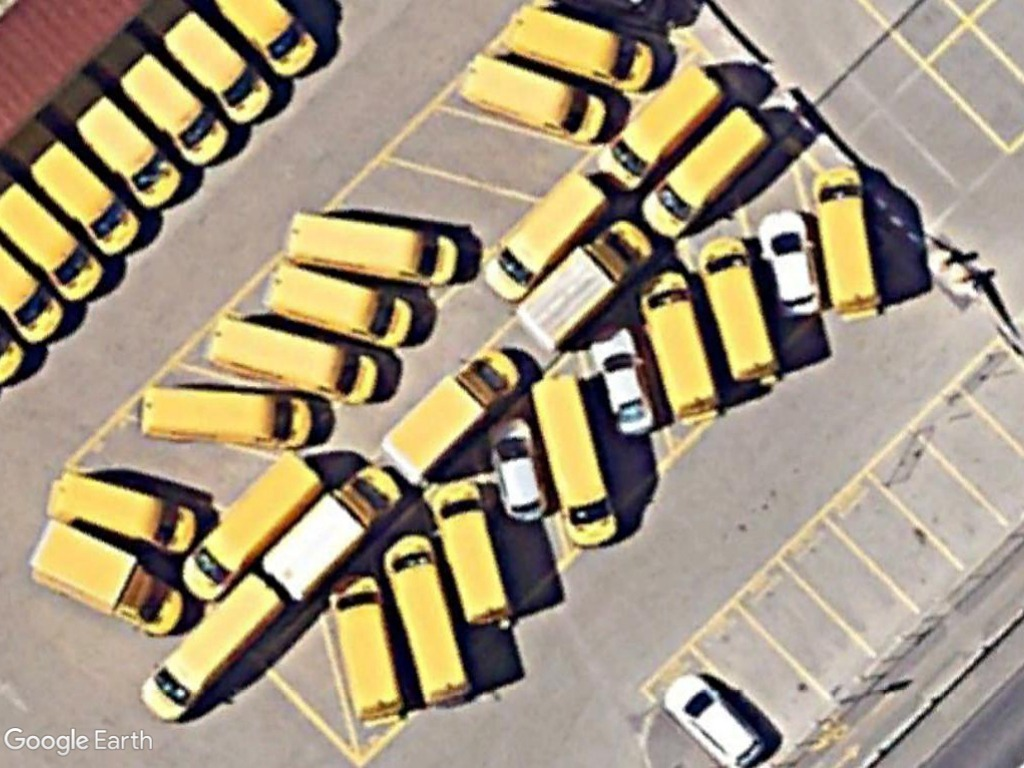car: (663, 671, 764, 768), (756, 203, 825, 321), (590, 322, 658, 440), (486, 418, 549, 527)
truck: (378, 336, 522, 494), (256, 462, 405, 608), (22, 513, 187, 636), (520, 214, 648, 353)
van: (137, 570, 285, 728), (179, 448, 324, 600), (634, 94, 775, 246), (591, 54, 725, 196), (479, 163, 605, 305), (527, 373, 620, 552), (203, 313, 380, 407), (153, 5, 282, 127), (384, 532, 472, 706), (20, 135, 143, 259), (259, 257, 417, 352), (281, 207, 463, 289), (506, 0, 658, 97), (110, 47, 232, 167), (455, 49, 610, 142), (68, 91, 187, 211), (41, 467, 199, 556), (634, 268, 721, 427), (131, 379, 318, 449), (695, 233, 776, 390), (325, 569, 409, 720), (426, 476, 509, 623), (810, 163, 881, 312)
